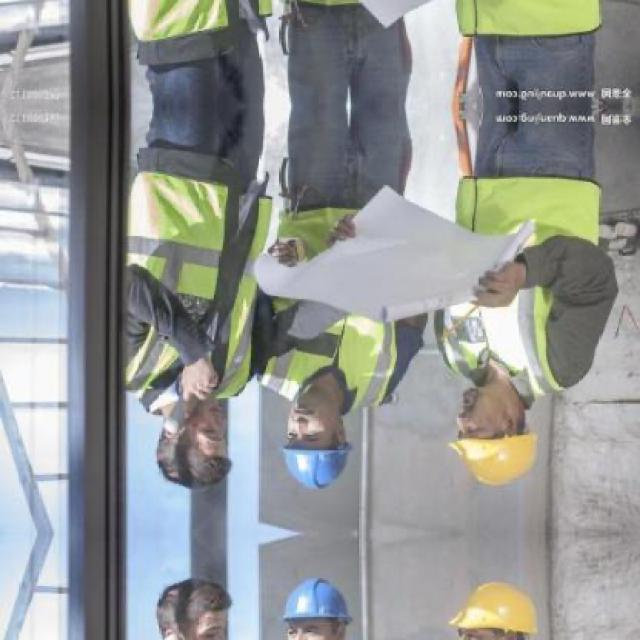con casco: (440, 336, 559, 493), (278, 335, 360, 495)
sin casco: (138, 332, 230, 494)
